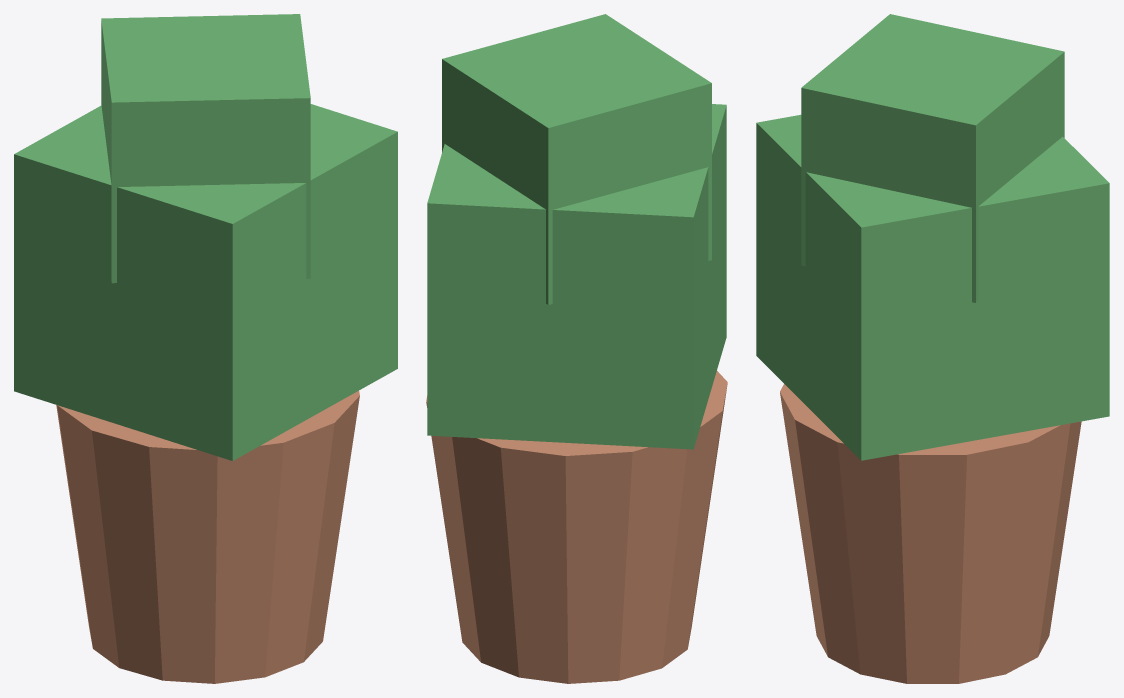
File: Prop_PottedPlant.glb
3 renders of one model, left to right at view 1: azimuth 30°, elevation 25°; view 2: azimuth 150°, elevation 25°; view 3: azimuth 270°, elevation 25°, orthographic. The views are drawn at different scales.
Visible parts, largest first — view 1: Bush1, Pot, Bush2; view 2: Bush1, Pot, Bush2; view 3: Bush1, Pot, Bush2.
Part boxes in pixels (<box>): Bush1: <box>14,104,397,460</box>; Pot: <box>56,391,359,683</box>; Bush2: <box>101,14,310,283</box>; Bush1: <box>427,104,726,449</box>; Pot: <box>426,371,727,683</box>; Bush2: <box>442,14,711,304</box>; Bush1: <box>756,114,1109,460</box>; Pot: <box>780,384,1081,683</box>; Bush2: <box>801,14,1064,302</box>.
Size of the model in its own units: 0.5766 by 1.02 by 0.5766.
